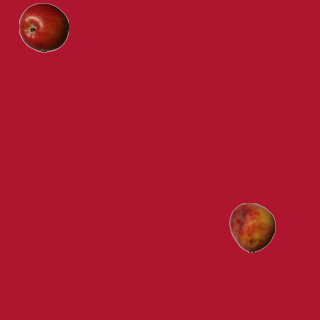Apple Braeburn: (18, 2, 68, 52)
Peach: (227, 202, 277, 252)
